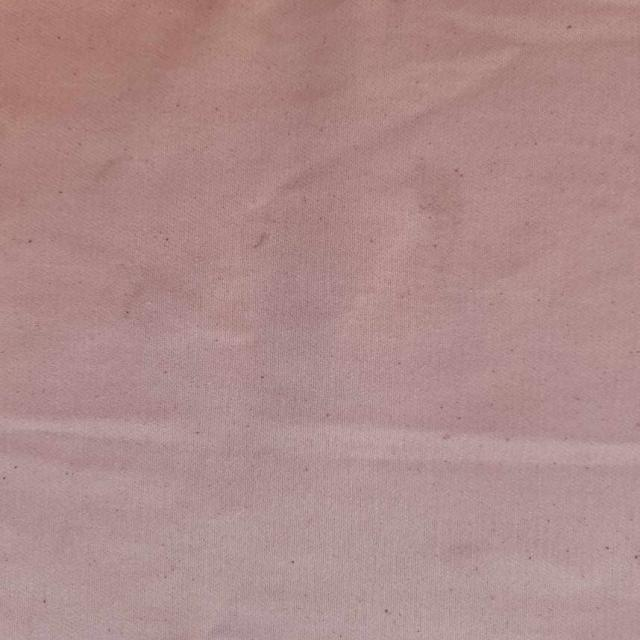taaaches: (85, 148, 138, 194), (244, 228, 282, 258)
